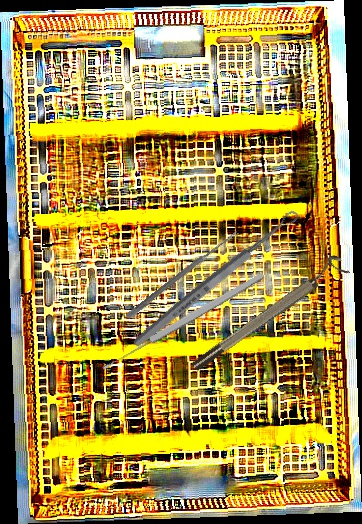Fixation Ring: (185, 251, 350, 375)
Surgical Spoon: (129, 207, 303, 351), (99, 270, 266, 374), (125, 228, 240, 321)
